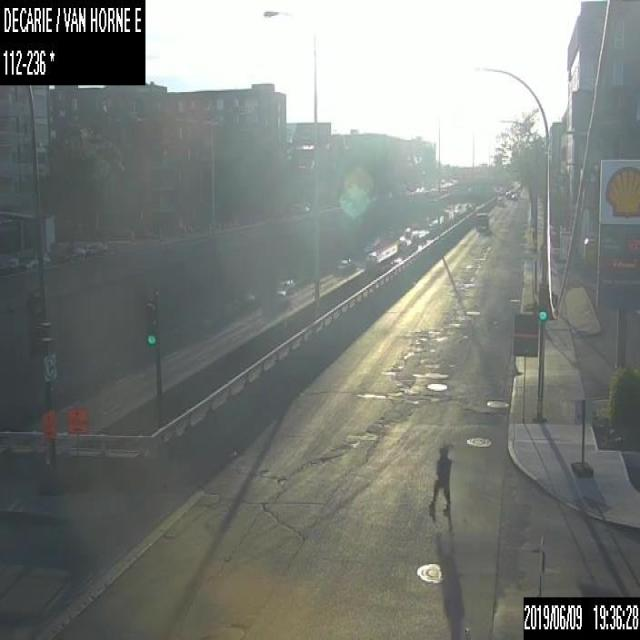construction: (63, 403, 86, 490), (570, 393, 592, 478), (42, 406, 61, 494)
pedestrian: (427, 447, 450, 512)
vehicle: (397, 227, 417, 252), (20, 253, 49, 268), (335, 256, 355, 276), (274, 278, 296, 296), (86, 240, 109, 256), (64, 246, 85, 262), (476, 212, 488, 228), (413, 229, 425, 243), (300, 201, 311, 211), (506, 189, 516, 199)
